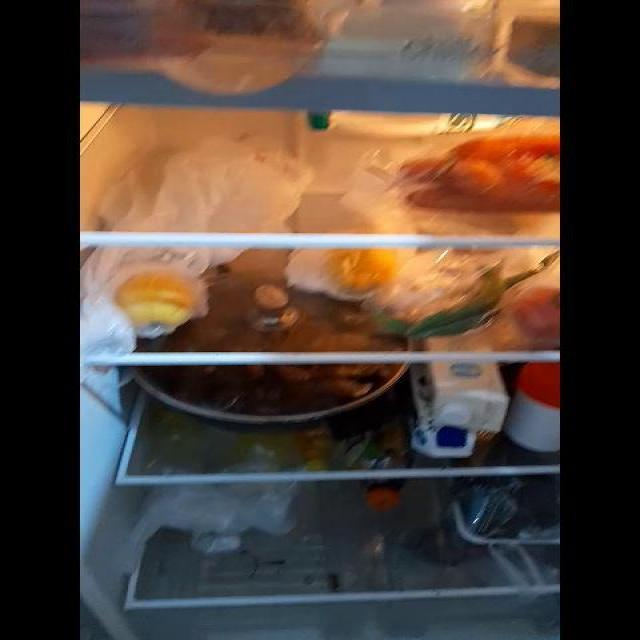broccoli: (455, 474, 560, 551)
carrot: (407, 139, 561, 209)
cheese: (325, 8, 496, 82)
green chilies: (393, 273, 515, 336)
lemon: (116, 276, 207, 332), (324, 244, 401, 297)
milk: (416, 363, 507, 459)
tomato: (508, 285, 560, 339)
